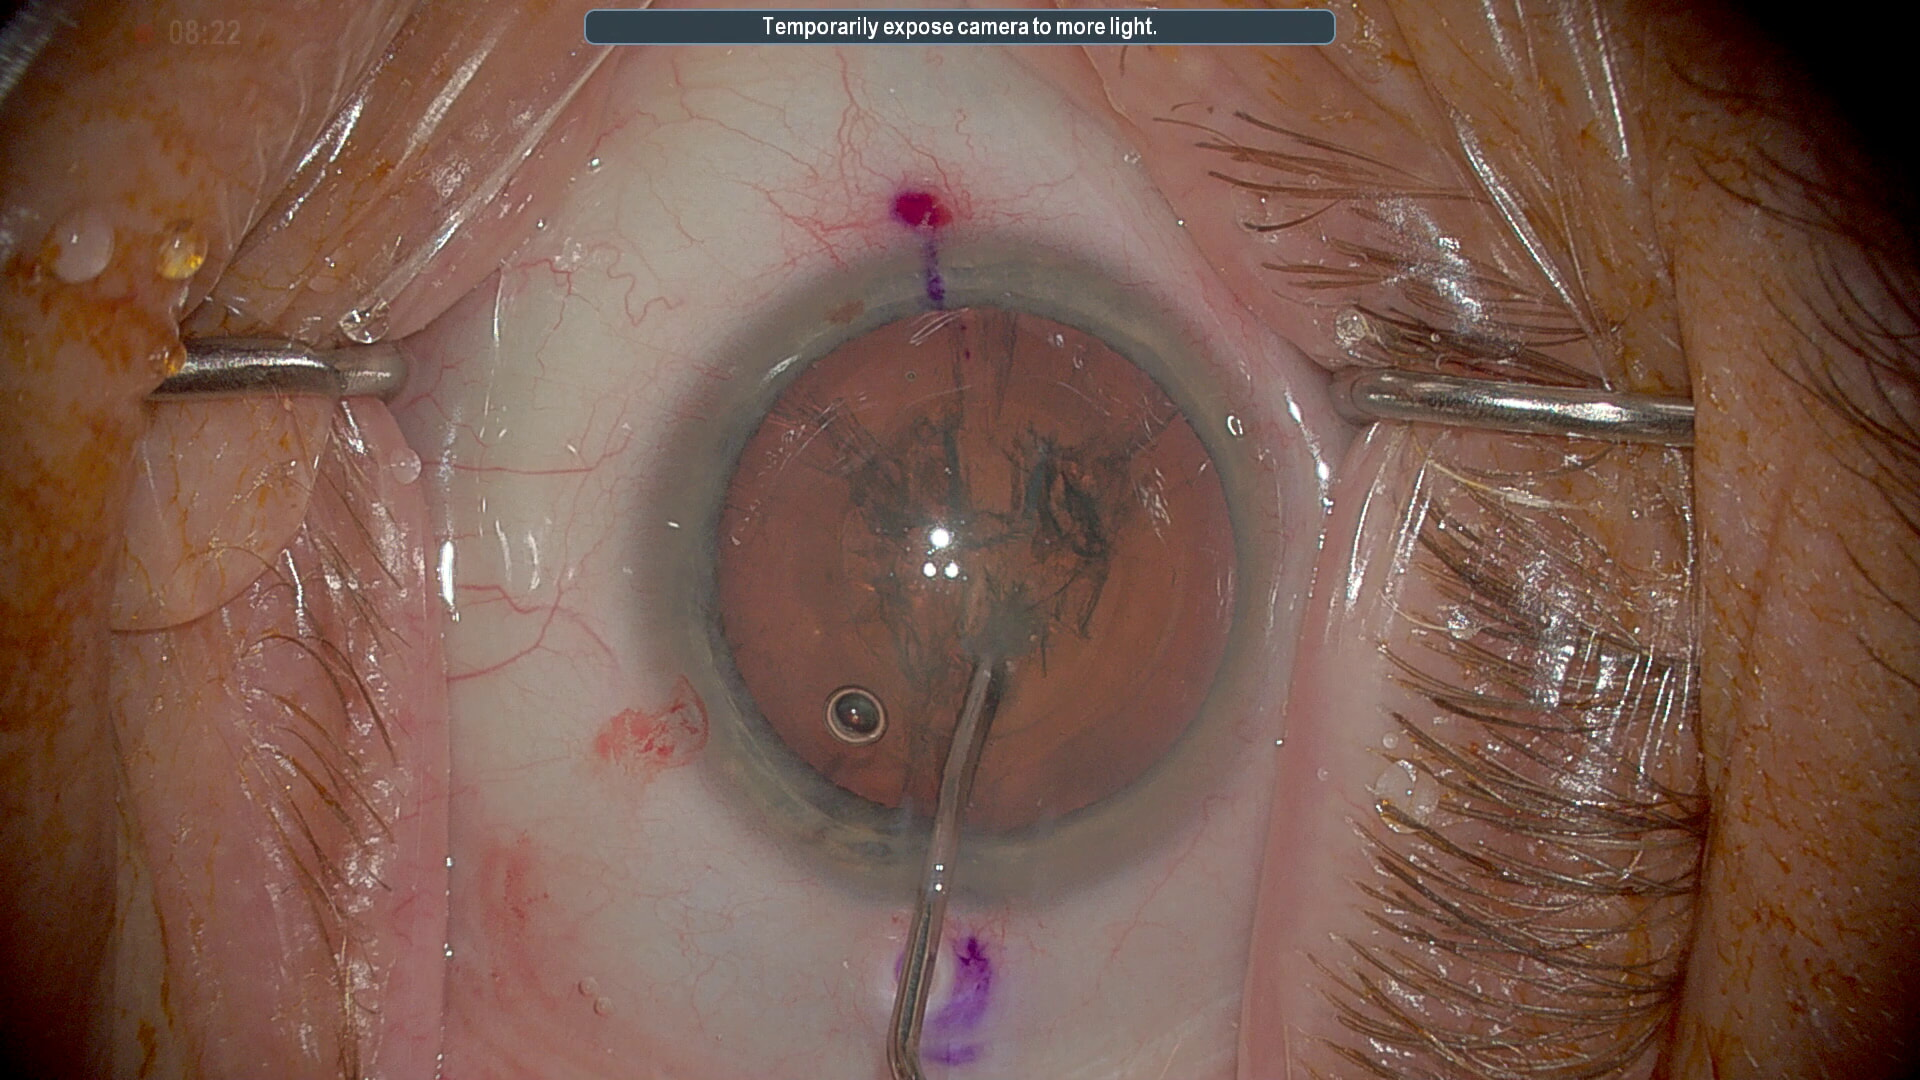iris: (657, 238, 1289, 892)
pupil: (703, 297, 1249, 828)
